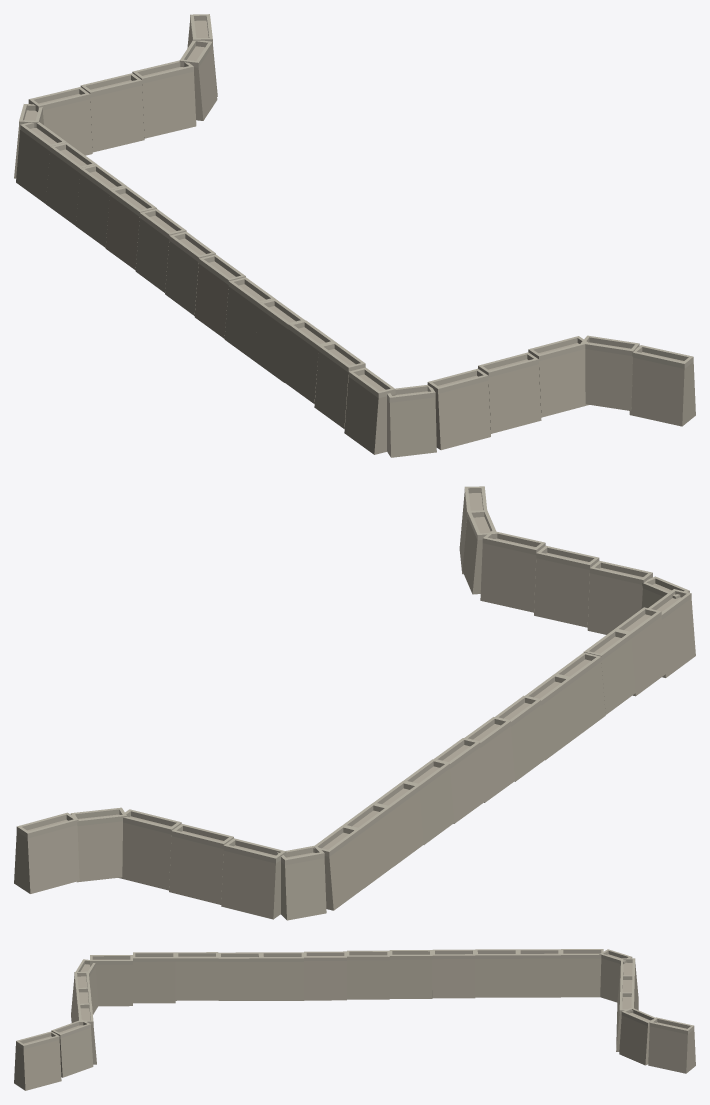
Rendered from bormla_65_29_collision.glb.
The picture shows the model from 3 angles, top to bottom: view 1: azimuth 30°, elevation 25°; view 2: azimuth 150°, elevation 25°; view 3: azimuth 270°, elevation 25°; orthographic projection. The views are drawn at different scales.
Parts seen in each view (by area): view 1: geometry_0; view 2: geometry_0; view 3: geometry_0.
Boxes of the visible parts, left/top/right/bottom form: geometry_0: left=14, top=14, right=695, bottom=457; geometry_0: left=14, top=486, right=695, bottom=920; geometry_0: left=14, top=949, right=695, bottom=1090.
Size of the model in its own units: 64.89 by 16.83 by 191.
